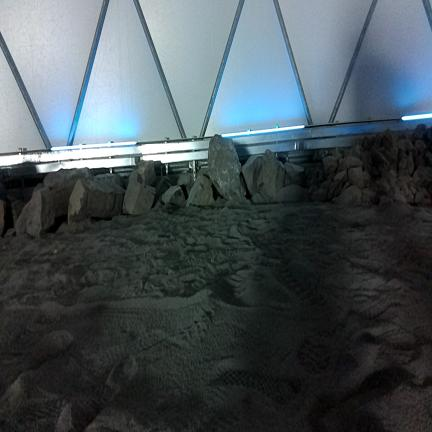Rock: (68, 180, 125, 223), (208, 135, 245, 199), (44, 169, 90, 217), (242, 150, 285, 199), (16, 184, 54, 236), (123, 171, 155, 214), (187, 176, 214, 206), (328, 170, 348, 200), (348, 167, 370, 191), (284, 163, 305, 186), (0, 199, 13, 236), (94, 174, 125, 189), (162, 186, 185, 206), (137, 161, 155, 185), (337, 186, 361, 204), (412, 166, 431, 188), (178, 173, 194, 199), (156, 176, 173, 199), (338, 156, 362, 172), (371, 147, 389, 166), (11, 201, 24, 226), (399, 154, 414, 175), (397, 139, 412, 158), (382, 130, 397, 149), (415, 189, 431, 205), (362, 188, 379, 203), (323, 156, 337, 174), (382, 170, 396, 187), (312, 188, 328, 202), (362, 152, 372, 173), (377, 178, 390, 194), (397, 176, 413, 189), (368, 179, 380, 195), (350, 144, 361, 159), (415, 140, 426, 154), (389, 146, 398, 162), (394, 191, 406, 202), (401, 185, 410, 199), (341, 182, 351, 194), (321, 178, 331, 190), (309, 185, 318, 198), (362, 137, 371, 150), (415, 154, 424, 166), (310, 177, 320, 187), (5, 228, 16, 237), (425, 151, 431, 166), (371, 167, 379, 178), (406, 192, 413, 203), (410, 186, 417, 195), (391, 162, 397, 172)
